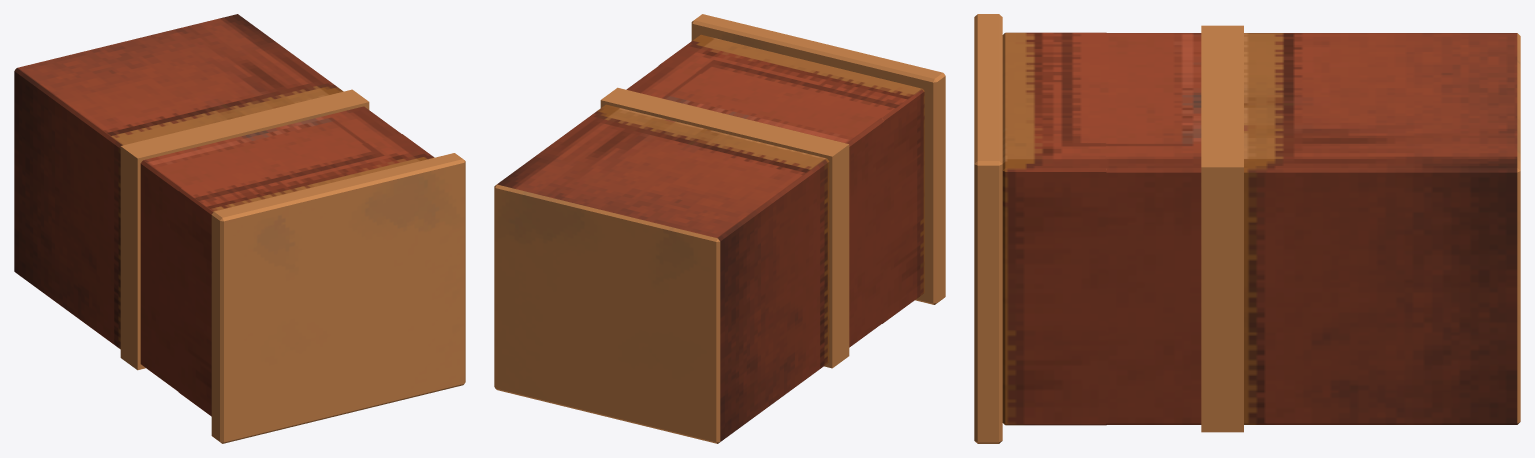
Rendered from pz_trashbin_spiffos.obj.
3 views of the same model, side by side, from view 1: azimuth 30°, elevation 25°; view 2: azimuth 150°, elevation 25°; view 3: azimuth 270°, elevation 25° (orthographic). The views are drawn at different scales.
Visible parts, largest first — view 1: pz_trashbin_spiffos_|_native_square_bin_cabinet, pz_trashbin_spiffos_|_native_projecting_cover, pz_trashbin_spiffos_|_upper_waste_door, pz_trashbin_spiffos_|_colored_middle_band; view 2: pz_trashbin_spiffos_|_native_square_bin_cabinet, pz_trashbin_spiffos_|_upper_waste_door, pz_trashbin_spiffos_|_native_projecting_cover, pz_trashbin_spiffos_|_colored_middle_band; view 3: pz_trashbin_spiffos_|_native_square_bin_cabinet, pz_trashbin_spiffos_|_upper_waste_door, pz_trashbin_spiffos_|_colored_middle_band, pz_trashbin_spiffos_|_native_projecting_cover.
Boxes of the visible parts, <box> form: pz_trashbin_spiffos_|_native_square_bin_cabinet: <box>14,14,401,391</box>; pz_trashbin_spiffos_|_native_projecting_cover: <box>211,153,465,443</box>; pz_trashbin_spiffos_|_upper_waste_door: <box>178,134,434,416</box>; pz_trashbin_spiffos_|_colored_middle_band: <box>120,89,369,370</box>; pz_trashbin_spiffos_|_native_square_bin_cabinet: <box>494,64,884,443</box>; pz_trashbin_spiffos_|_upper_waste_door: <box>658,34,924,323</box>; pz_trashbin_spiffos_|_native_projecting_cover: <box>691,14,945,304</box>; pz_trashbin_spiffos_|_colored_middle_band: <box>600,87,849,368</box>; pz_trashbin_spiffos_|_native_square_bin_cabinet: <box>1105,33,1520,424</box>; pz_trashbin_spiffos_|_upper_waste_door: <box>1002,32,1106,425</box>; pz_trashbin_spiffos_|_colored_middle_band: <box>1201,25,1243,432</box>; pz_trashbin_spiffos_|_native_projecting_cover: <box>974,14,1002,443</box>.
Bounding box in the file's own units: 0.5 × 0.44 × 0.77.
3 materials, 3 textured.
